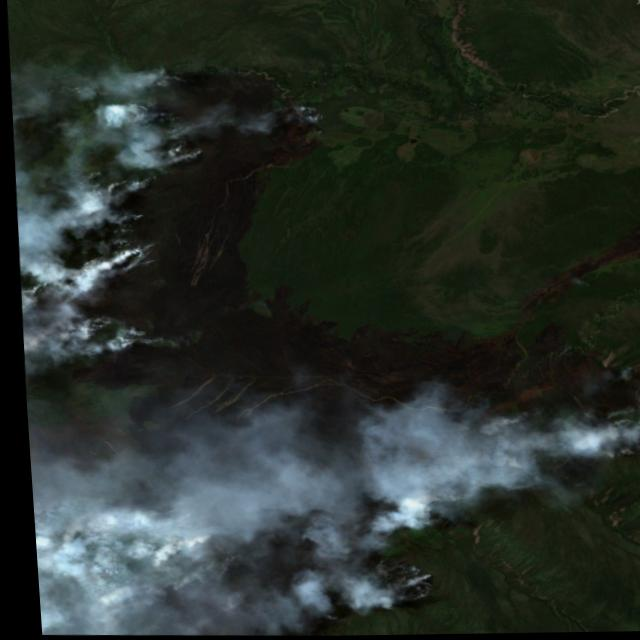fire: (3, 47, 640, 640)
